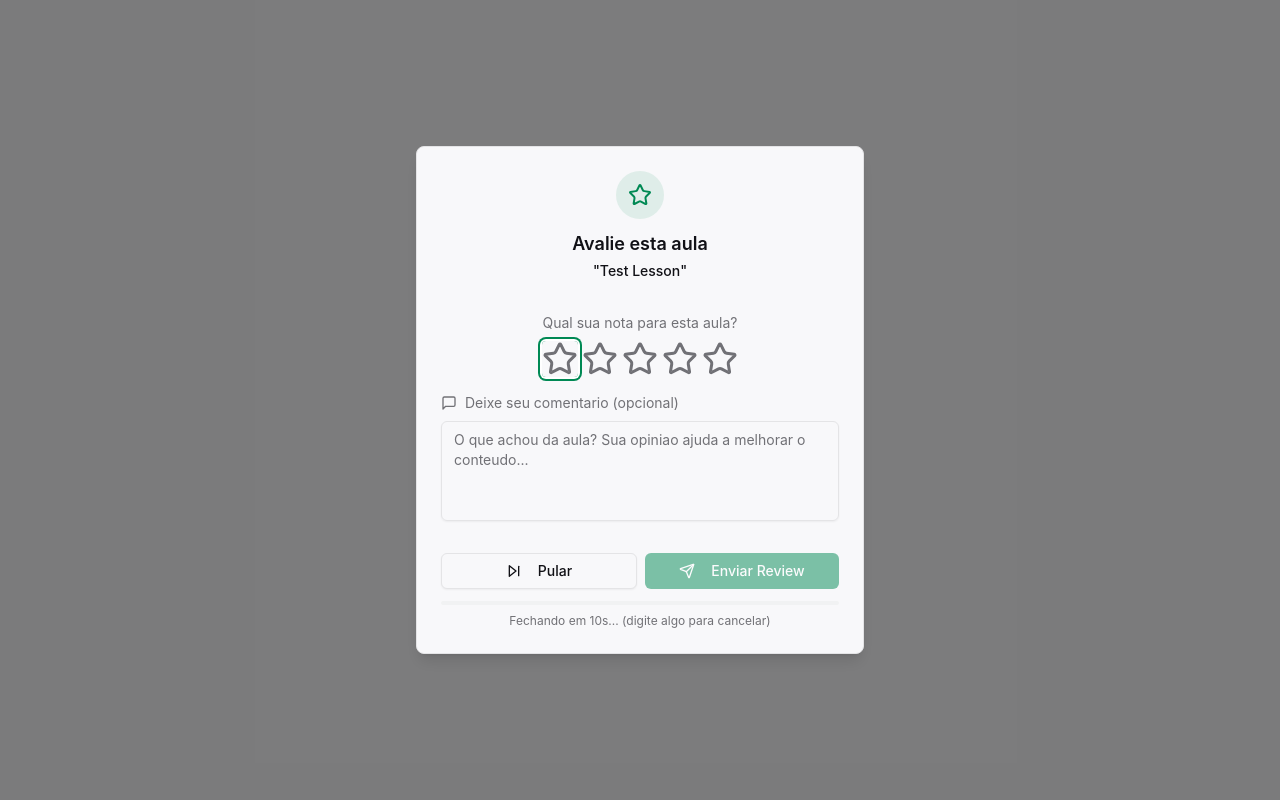
Scenario: LessonReviewOverlay › should cancel countdown when user starts typing
Expected: the text "Fechando em 10s... (digite algo para cancelar)" is shown, [509, 613, 771, 628]
Note: Type in textarea
Type "a" into the text box with placeholder "O que achou da aula" at (640, 471), box [441, 421, 839, 521]
Wait 15000 ms
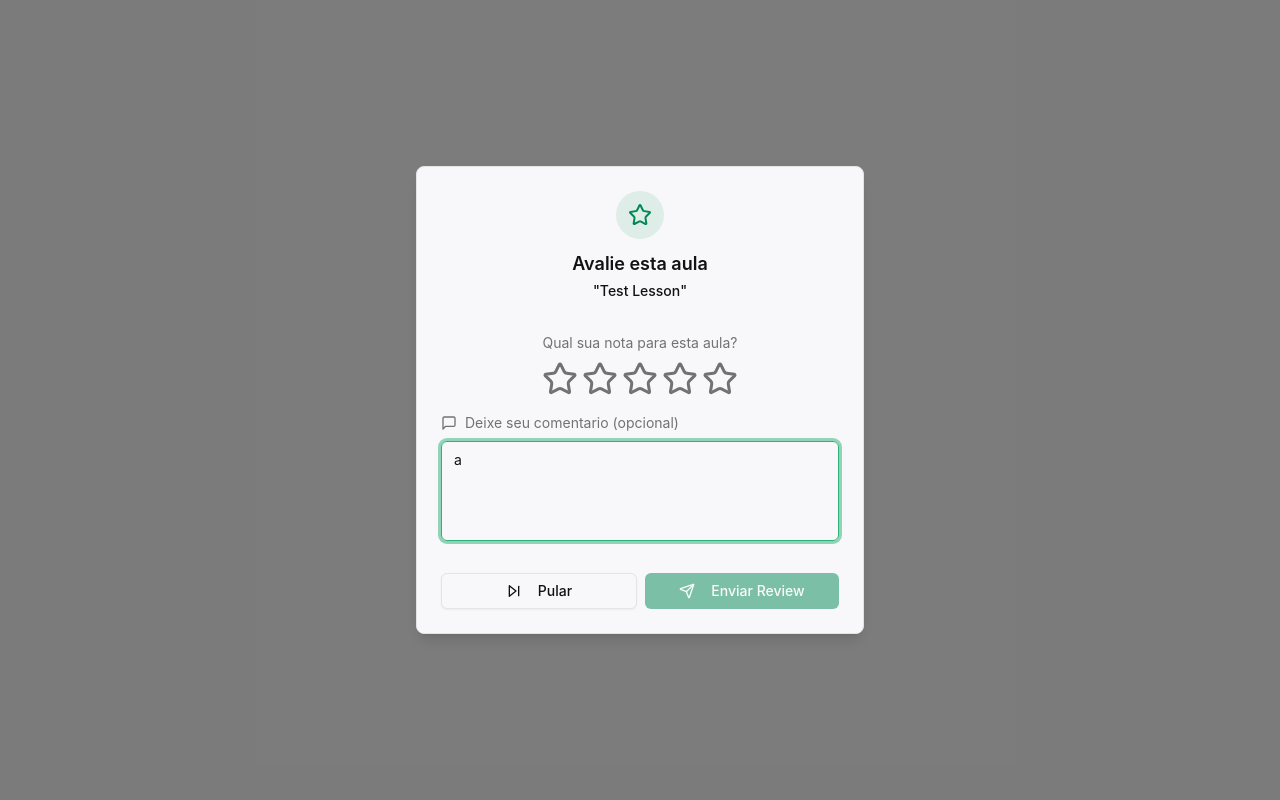
Expected: the text "Fechando em" is gone
